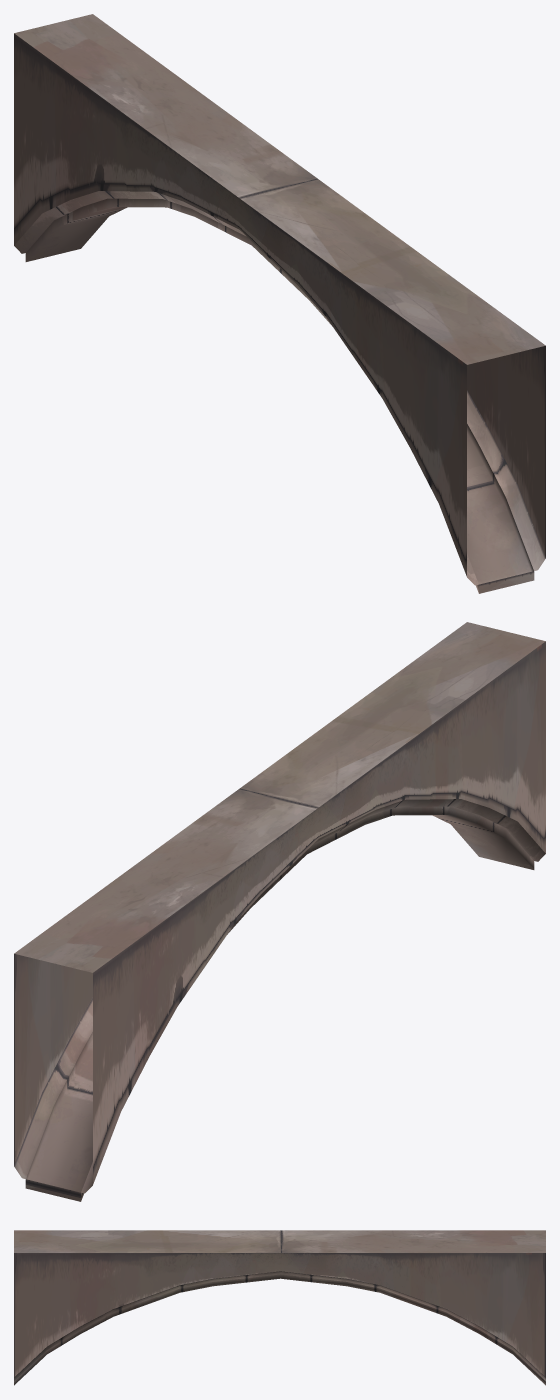
The model's file is CurveDouble.fbx.
3 views of the same model, one above another, from view 1: azimuth 30°, elevation 25°; view 2: azimuth 150°, elevation 25°; view 3: azimuth 270°, elevation 25° (orthographic). The views are drawn at different scales.
Parts seen in each view (by area): view 1: CurveDouble; view 2: CurveDouble; view 3: CurveDouble.
Boxes of the visible parts, x1,y1,x2,y2 form: CurveDouble: (14, 14, 545, 593); CurveDouble: (14, 622, 545, 1201); CurveDouble: (14, 1230, 545, 1385).
Size of the model in its own units: 175 by 491 by 1738.
